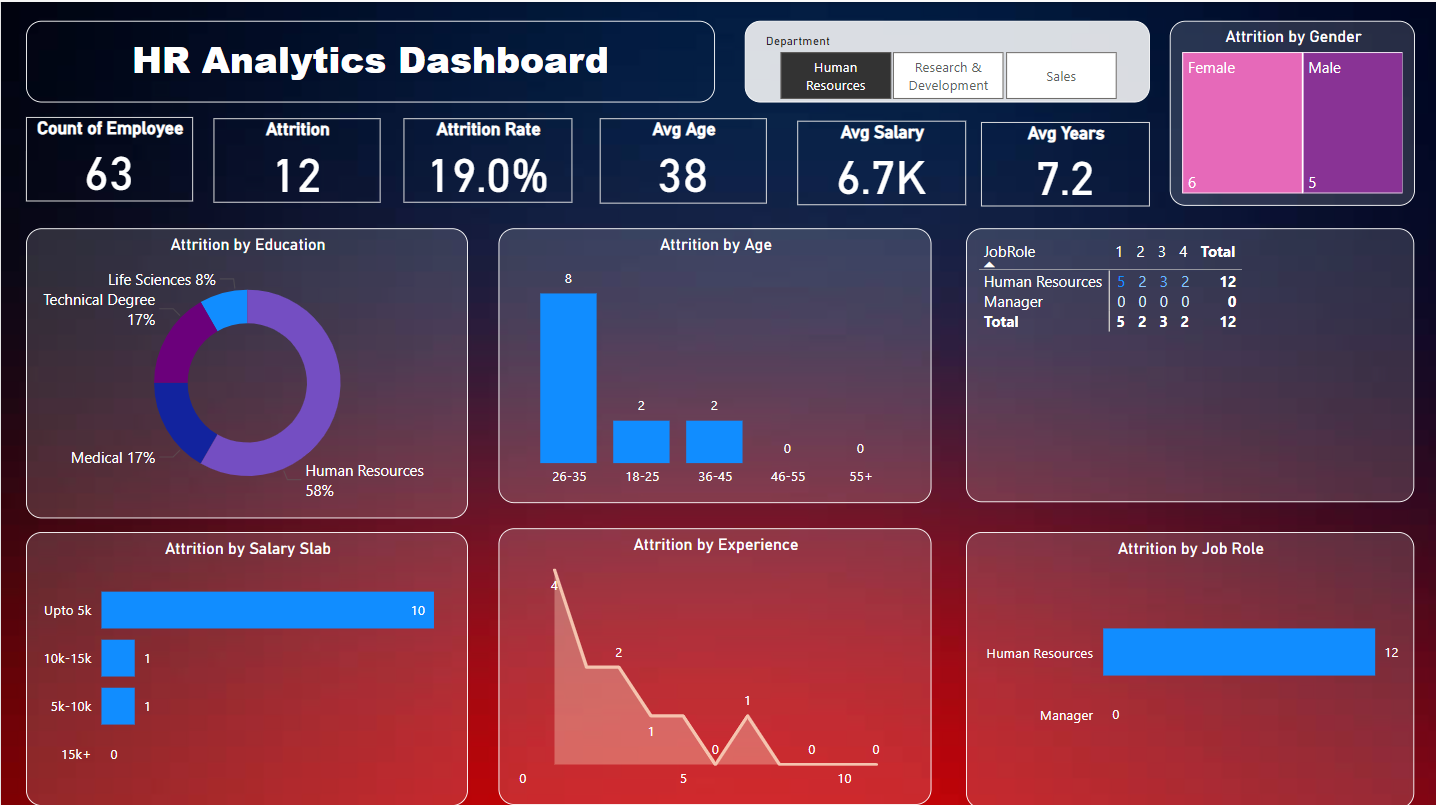

What the dashboard file says about the page in this screenshot:
{"tool":"powerbi","page":{"name":"Page 1","canvas":[1280,720],"ordinal":0},"visuals":[{"type":"card","title":"Count of Employee","fields":{"Values":["CountNonNull(HR_Analytics.EmpID)"]},"box":[21.9,102.7,148.8,75.1],"z":0},{"type":"card","title":"Attrition","fields":{"Values":["Sum(HR_Analytics.AttritionCount)"]},"box":[189.1,104,148.8,75.1],"z":1000},{"type":"card","title":"Attrition Rate","fields":{"Values":["HR_Analytics.AttritionRate"]},"box":[359,104,150.1,75.1],"z":2000},{"type":"card","title":"Avg Age","fields":{"Values":["Avg(HR_Analytics.Age)"]},"box":[532.8,104,148.8,76.4],"z":3000},{"type":"card","title":"Avg Salary","fields":{"Values":["Avg(HR_Analytics.MonthlyIncome)"]},"box":[709.3,105.3,150.1,75.1],"z":4000},{"type":"card","title":"Avg Years","fields":{"Values":["Avg(HR_Analytics.YearsAtCompany)"]},"box":[872.6,106.7,150.1,75.1],"z":5000},{"type":"donutChart","title":"Attrition by Education","fields":{"Category":["HR_Analytics.EducationField"],"Y":["Sum(HR_Analytics.AttritionCount)"]},"box":[21.9,201.5,393.7,258.1],"z":6000},{"type":"columnChart","title":"Attrition by Age","fields":{"Category":["HR_Analytics.AgeGroup"],"Y":["Sum(HR_Analytics.AttritionCount)"]},"box":[443.3,201.5,385.8,244.9],"z":7000},{"type":"pivotTable","fields":{"Rows":["HR_Analytics.JobRole"],"Columns":["HR_Analytics.JobSatisfaction"],"Values":["Sum(HR_Analytics.AttritionCount)"]},"box":[859.4,201.5,399,243.6],"z":8000},{"type":"barChart","title":"Attrition by Age","fields":{"Category":["HR_Analytics.SalarySlab"],"Y":["Sum(HR_Analytics.AttritionCount)"]},"box":[21.9,471.4,393.7,243.6],"z":9000},{"type":"barChart","title":"Attrition by Age","fields":{"Category":["HR_Analytics.JobRole"],"Y":["Sum(HR_Analytics.AttritionCount)"]},"box":[859.4,471.4,399,246.3],"z":10000},{"type":"areaChart","title":"Attrition by Age","fields":{"Category":["HR_Analytics.YearsAtCompany"],"Y":["Sum(HR_Analytics.AttritionCount)"]},"box":[443.3,468.8,385.8,246.3],"z":11000},{"type":"treemap","title":"Attrition by Age","fields":{"Group":["HR_Analytics.Gender"],"Values":["Sum(HR_Analytics.AttritionCount)"]},"box":[1040.3,17.1,218.6,164.6],"z":12000},{"type":"slicer","fields":{"Values":["HR_Analytics.Department"]},"box":[662.4,17.1,360.8,72.4],"z":13000},{"type":"textbox","box":[22.4,17.1,613.7,72.4],"z":13001}]}

Visuals, with their boxes in screenshot pixels (x1, y1, x2, y2), scaled from the page's 1280x720 canvas onto the 1436x805 screenshot:
"Count of Employee" card: [x1=25, y1=115, x2=192, y2=199]
"Attrition" card: [x1=212, y1=116, x2=379, y2=200]
"Attrition Rate" card: [x1=403, y1=116, x2=571, y2=200]
"Avg Age" card: [x1=598, y1=116, x2=765, y2=202]
"Avg Salary" card: [x1=796, y1=118, x2=964, y2=202]
"Avg Years" card: [x1=979, y1=119, x2=1147, y2=203]
"Attrition by Education" donutChart: [x1=25, y1=225, x2=466, y2=514]
"Attrition by Age" columnChart: [x1=497, y1=225, x2=930, y2=499]
pivotTable - HR_Analytics.JobRole x HR_Analytics.JobSatisfaction: [x1=964, y1=225, x2=1412, y2=498]
"Attrition by Age" barChart: [x1=25, y1=527, x2=466, y2=799]
"Attrition by Age" barChart: [x1=964, y1=527, x2=1412, y2=802]
"Attrition by Age" areaChart: [x1=497, y1=524, x2=930, y2=800]
"Attrition by Age" treemap: [x1=1167, y1=19, x2=1412, y2=203]
slicer - HR_Analytics.Department: [x1=743, y1=19, x2=1148, y2=100]
textbox: [x1=25, y1=19, x2=714, y2=100]
